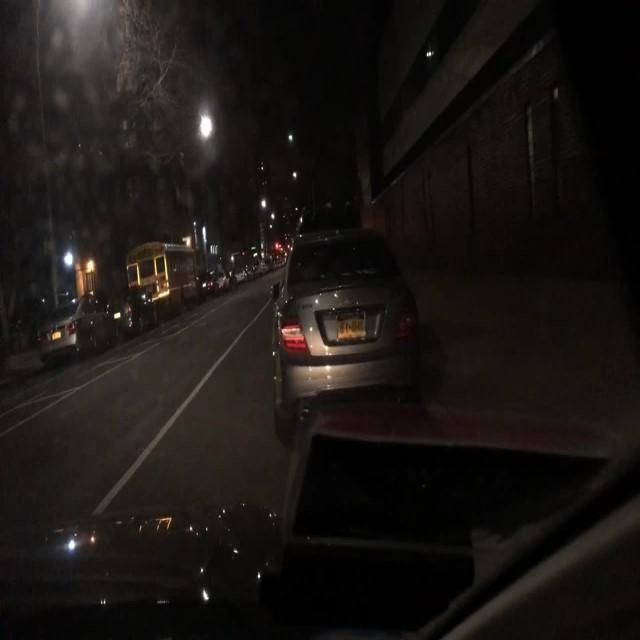normal: (268, 229, 418, 435), (40, 292, 117, 357)
